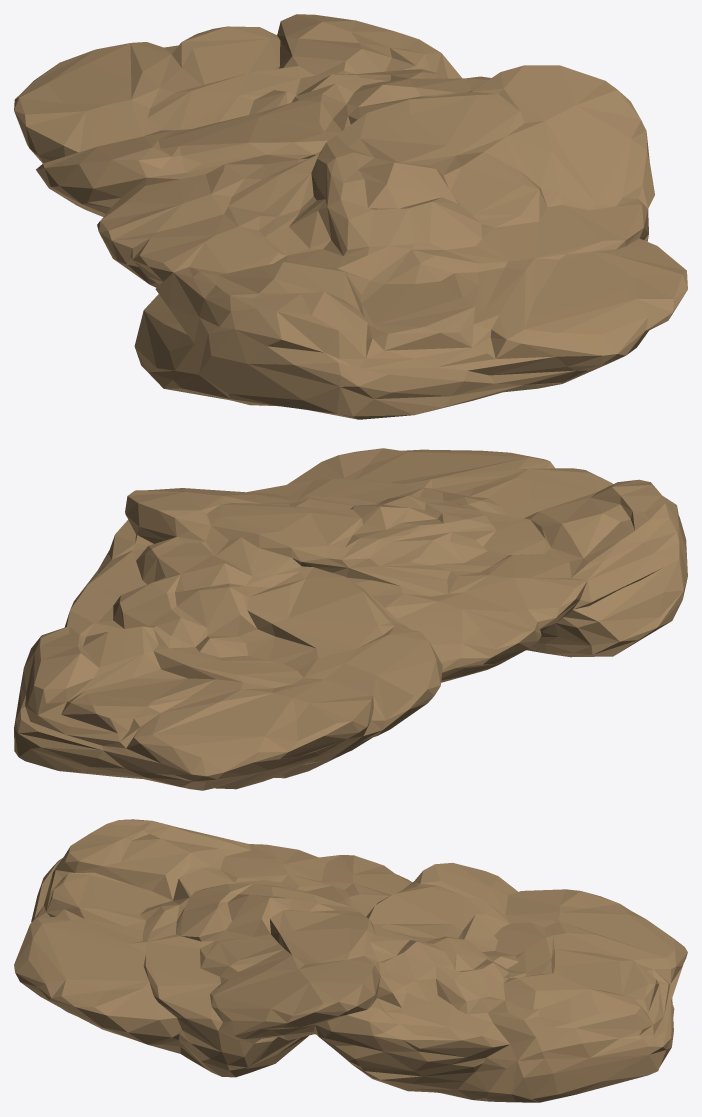
File: nature_SM_Rock_Cluster_Large_06.gltf
The picture shows the model from 3 angles, top to bottom: view 1: azimuth 30°, elevation 25°; view 2: azimuth 150°, elevation 25°; view 3: azimuth 270°, elevation 25°; orthographic projection. The views are drawn at different scales.
Visible parts, largest first — view 1: SM_Rock_Cluster_Large_06; view 2: SM_Rock_Cluster_Large_06; view 3: SM_Rock_Cluster_Large_06.
Part boxes in pixels (x1,y1,x2,y2): SM_Rock_Cluster_Large_06: [14, 14, 687, 419]; SM_Rock_Cluster_Large_06: [14, 448, 687, 790]; SM_Rock_Cluster_Large_06: [14, 819, 687, 1102].
Bounding box in the file's own units: 27.5 × 8.39 × 38.95.
Materials: 1 (1 with a texture image).
